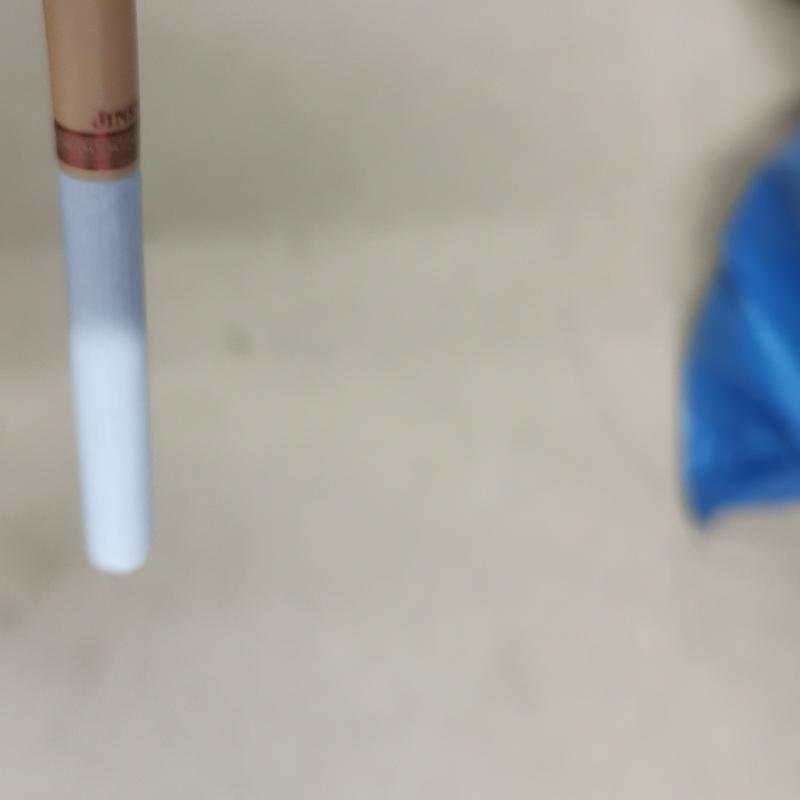cigarette: (31, 1, 159, 581)
